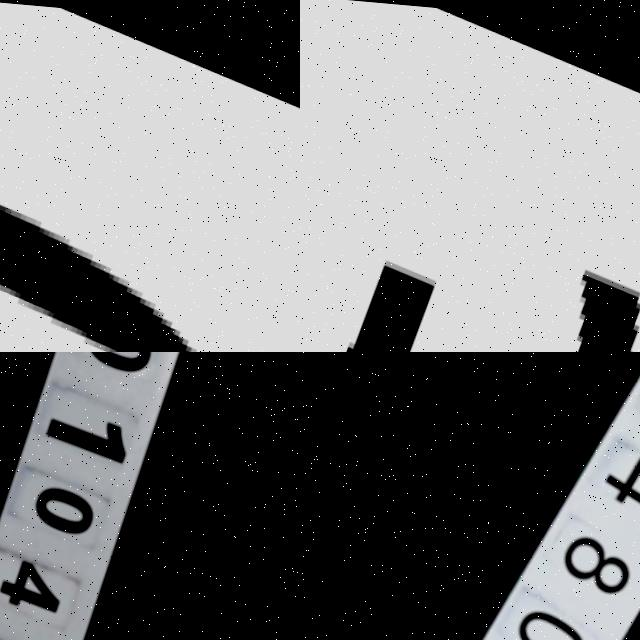0: (20, 462, 118, 544), (498, 578, 615, 640), (70, 352, 175, 381)
1: (41, 375, 149, 466)
3: (300, 60, 640, 352)
4: (0, 538, 90, 626), (583, 424, 640, 536)
8: (544, 505, 640, 606)
G: (0, 94, 298, 352)
